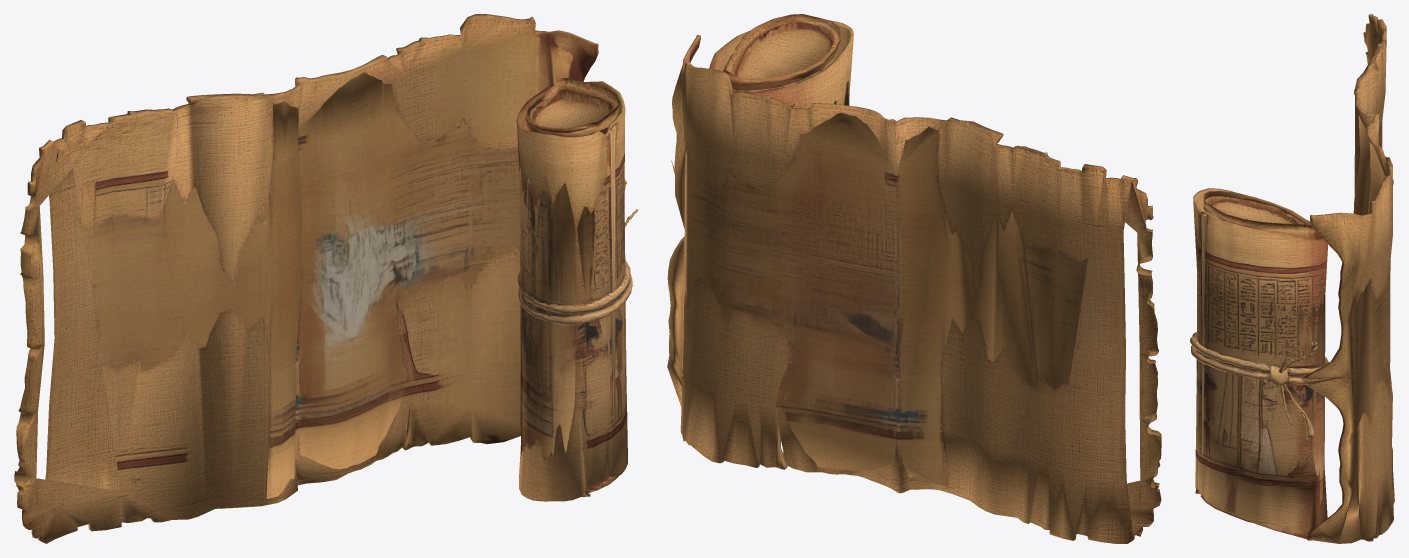
File: selected.glb
3 renders of one model, left to right at view 1: azimuth 30°, elevation 25°; view 2: azimuth 150°, elevation 25°; view 3: azimuth 270°, elevation 25°, orthographic. The views are drawn at different scales.
Visible parts, largest first — view 1: tripo_node_bb1951b3-f1c9-43d4-bc0d-085ddd70273e; view 2: tripo_node_bb1951b3-f1c9-43d4-bc0d-085ddd70273e; view 3: tripo_node_bb1951b3-f1c9-43d4-bc0d-085ddd70273e.
Part boxes in pixels (bbox=[...]): tripo_node_bb1951b3-f1c9-43d4-bc0d-085ddd70273e: bbox=[14, 14, 638, 543]; tripo_node_bb1951b3-f1c9-43d4-bc0d-085ddd70273e: bbox=[667, 14, 1161, 543]; tripo_node_bb1951b3-f1c9-43d4-bc0d-085ddd70273e: bbox=[1190, 14, 1394, 543].
Bounding box in the file's own units: 0.998 × 0.7168 × 0.3809.
1 material, 1 textured.
